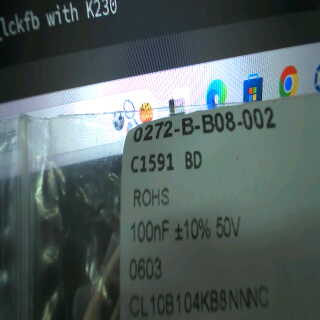100nF: (127, 216, 173, 247)
